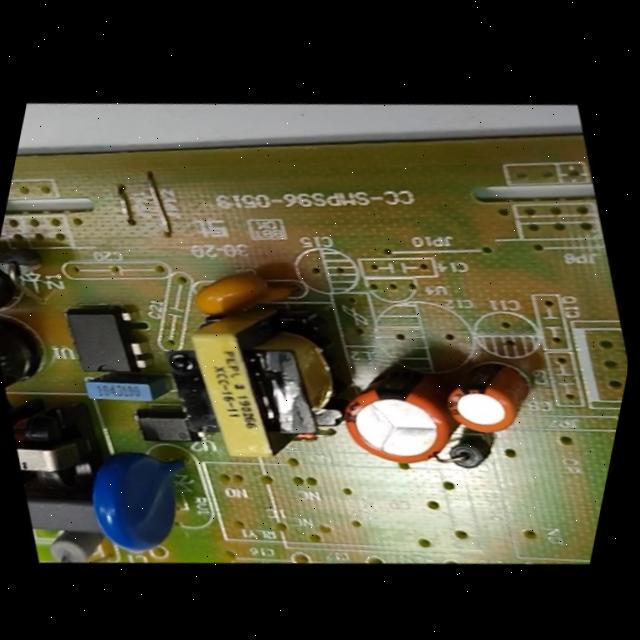Cap1: (316, 339, 482, 484)
Cap2: (431, 351, 552, 449)
Cap3: (0, 319, 78, 423)
Cap4: (0, 236, 49, 344)
MOSFET: (46, 292, 164, 392)
Mov: (62, 434, 222, 575)
Resistor: (37, 523, 111, 574)
Transformer: (141, 275, 381, 489), (0, 400, 109, 501)
